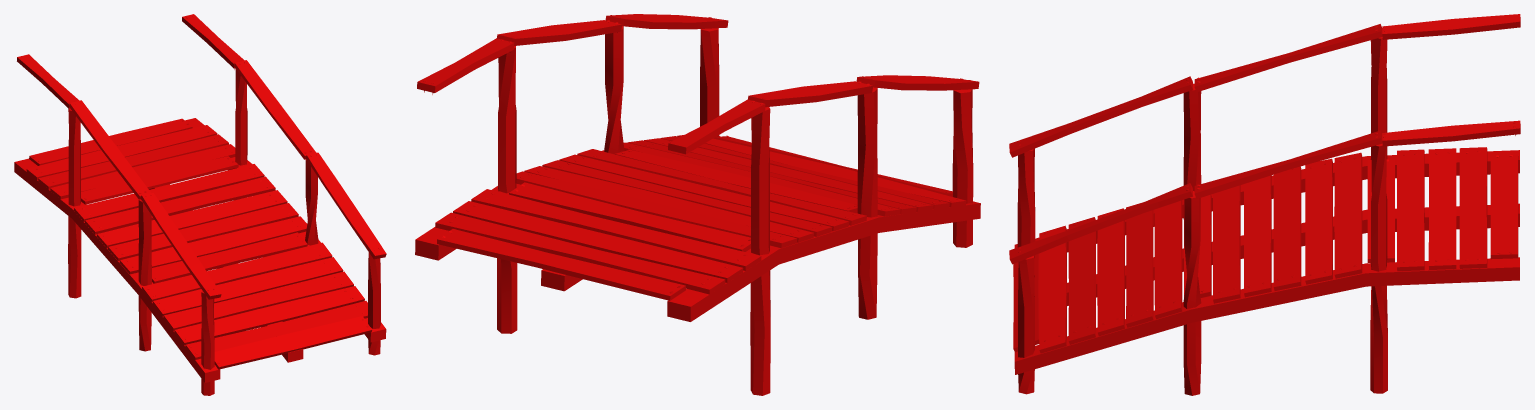
The model's file is Bridge_SECOND_red.fbx.
3 renders of one model, left to right at view 1: azimuth 30°, elevation 25°; view 2: azimuth 150°, elevation 25°; view 3: azimuth 270°, elevation 25°, orthographic. The views are drawn at different scales.
Visible parts, largest first — view 1: pCylinder81; view 2: pCylinder81; view 3: pCylinder81.
Boxes of the visible parts, <box> form: pCylinder81: <box>14,14,386,395</box>; pCylinder81: <box>415,14,980,395</box>; pCylinder81: <box>1009,14,1520,395</box>.
Bounding box in the file's own units: 15.27 × 16.27 × 28.19.
